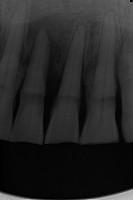Dental Caries: (24, 15, 76, 77)
